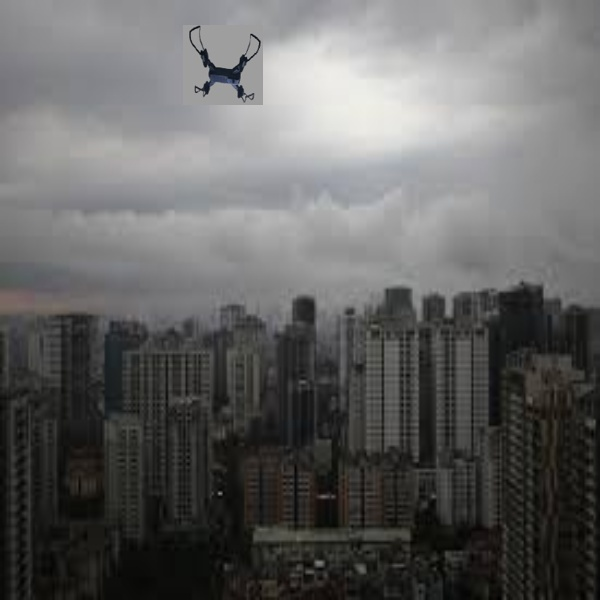drone: (183, 22, 266, 106)
